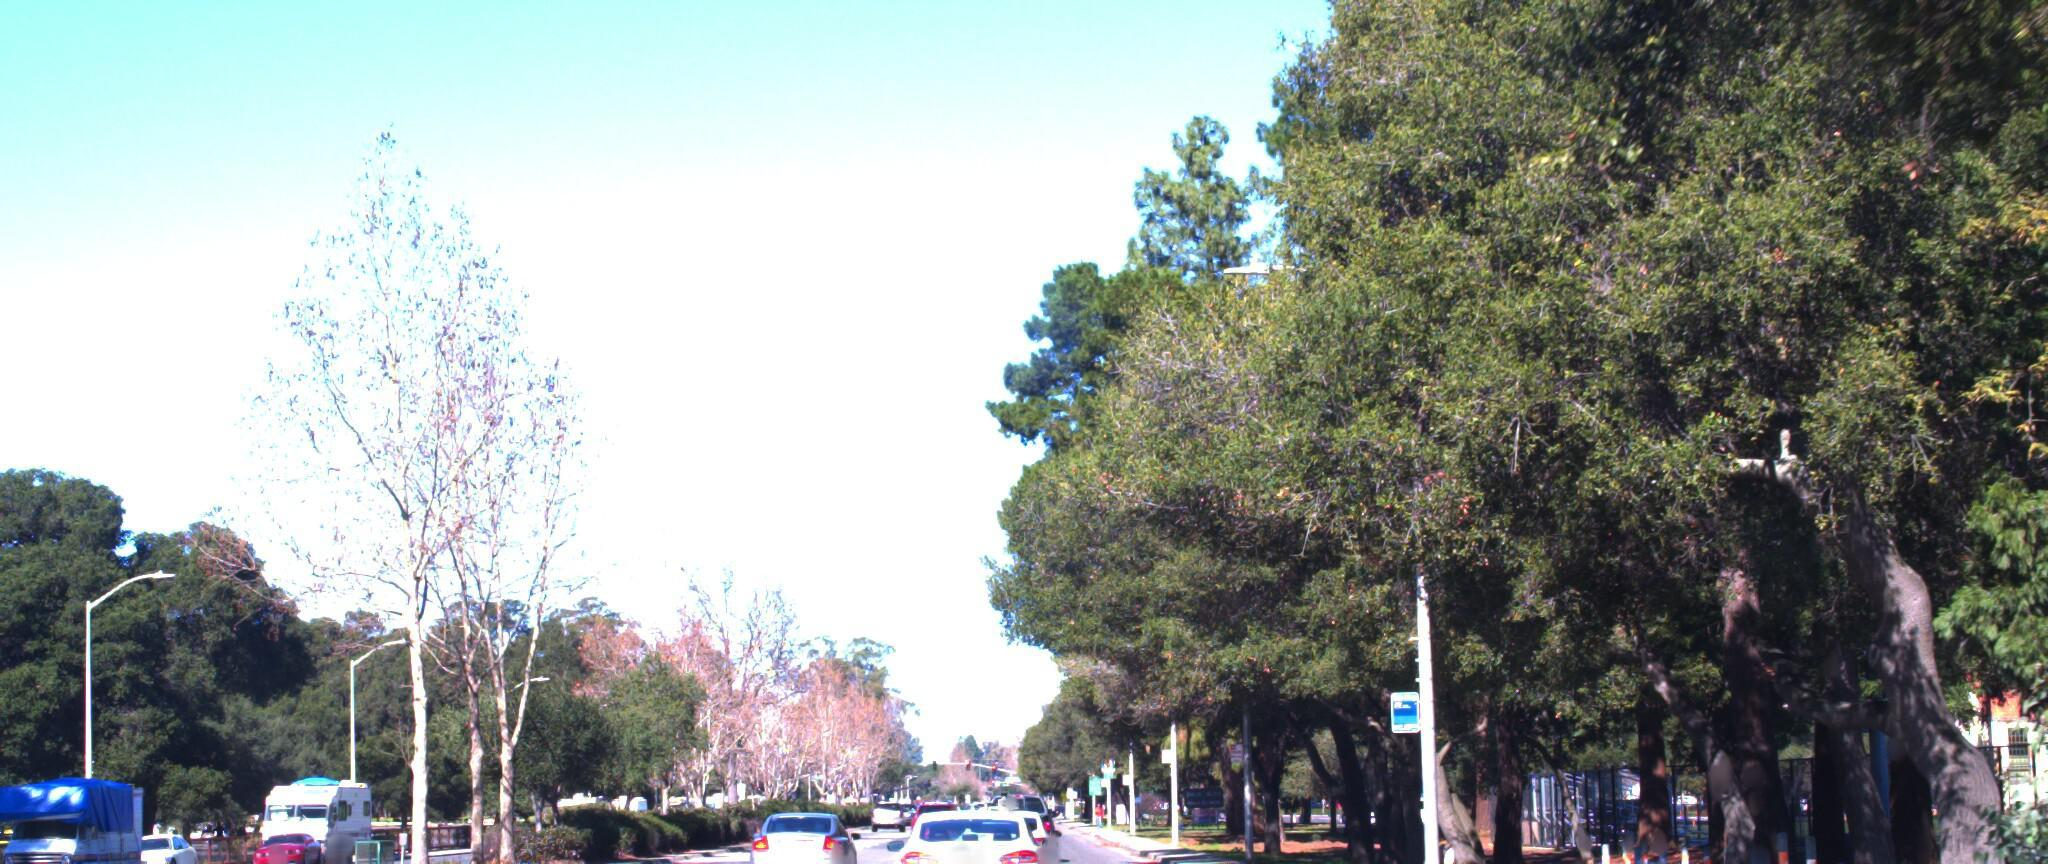car: (882, 787, 1059, 864), (741, 782, 862, 864)
